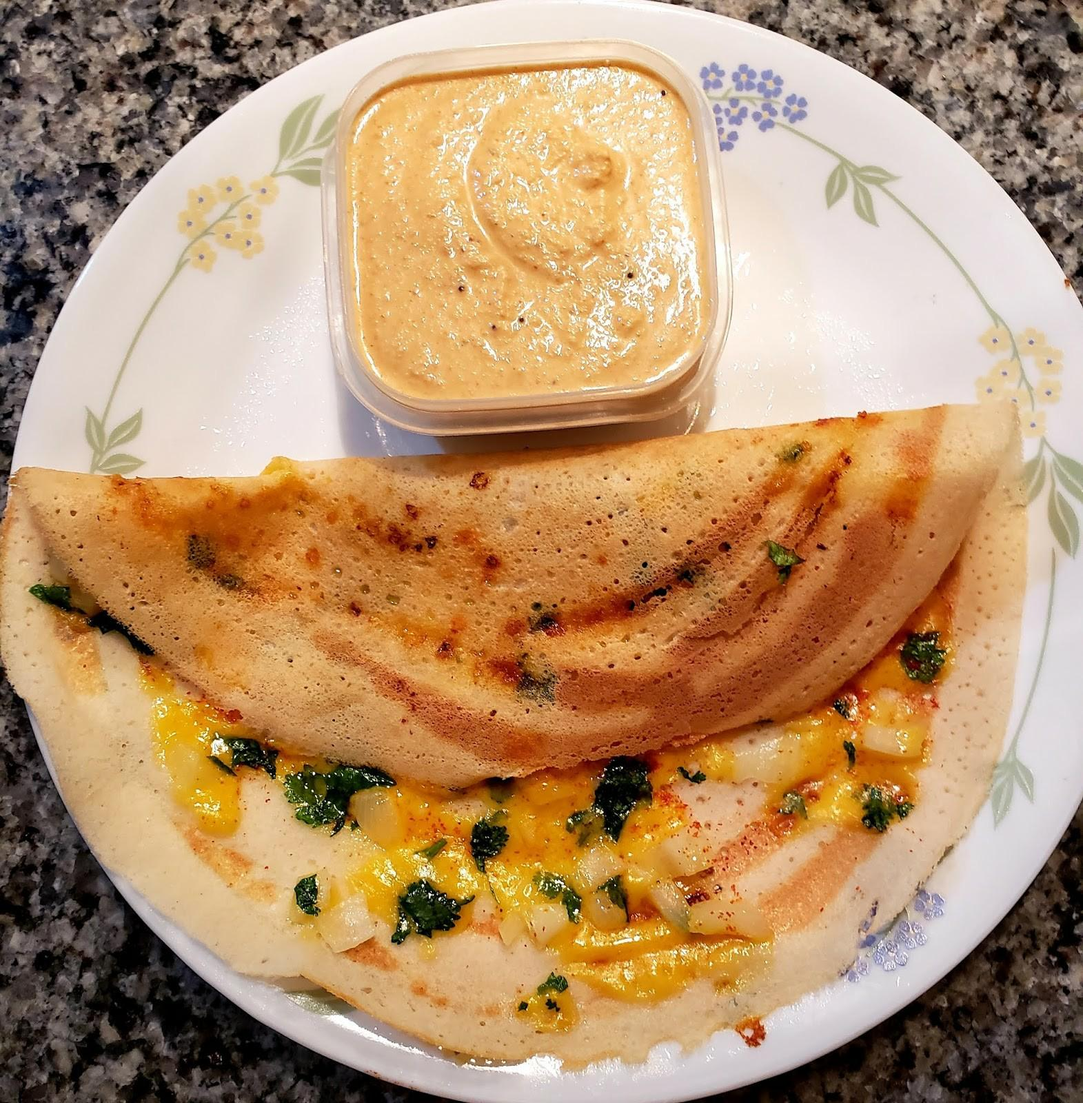Dosa: (0, 406, 1022, 1068)
